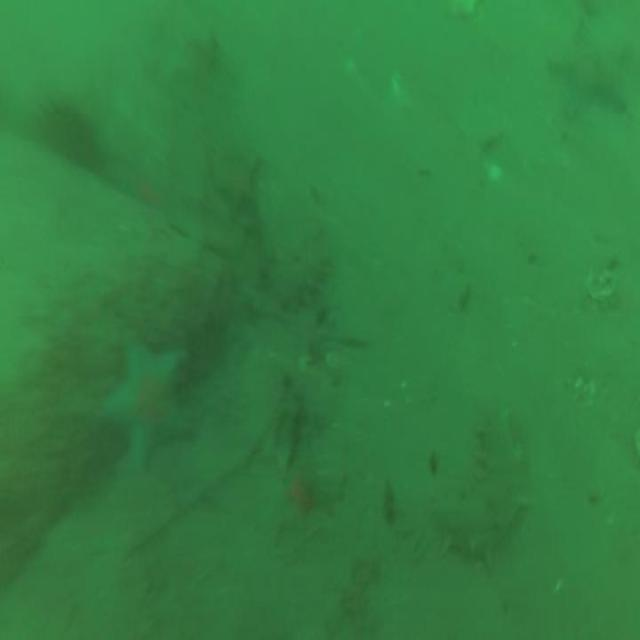echinus: (47, 98, 98, 167)
holothurian: (426, 400, 527, 570), (268, 231, 332, 311)
starfish: (103, 337, 189, 466), (551, 18, 626, 118), (270, 454, 316, 544), (219, 148, 256, 220)
